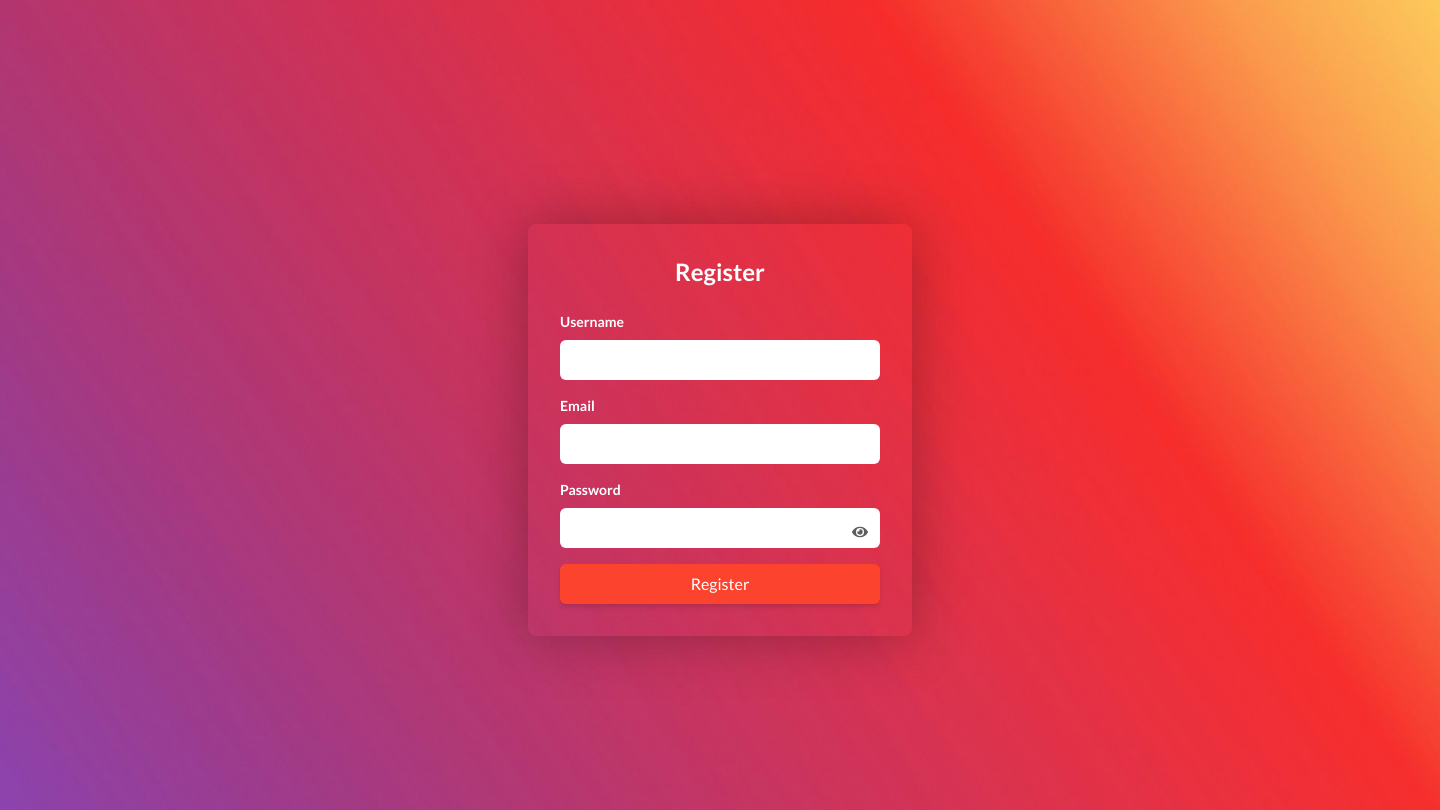
it: Register › rejects a short password
The image size is (1440, 810).
In the field labelled "Username": (720, 360) [560,340,880,380], type "alice"
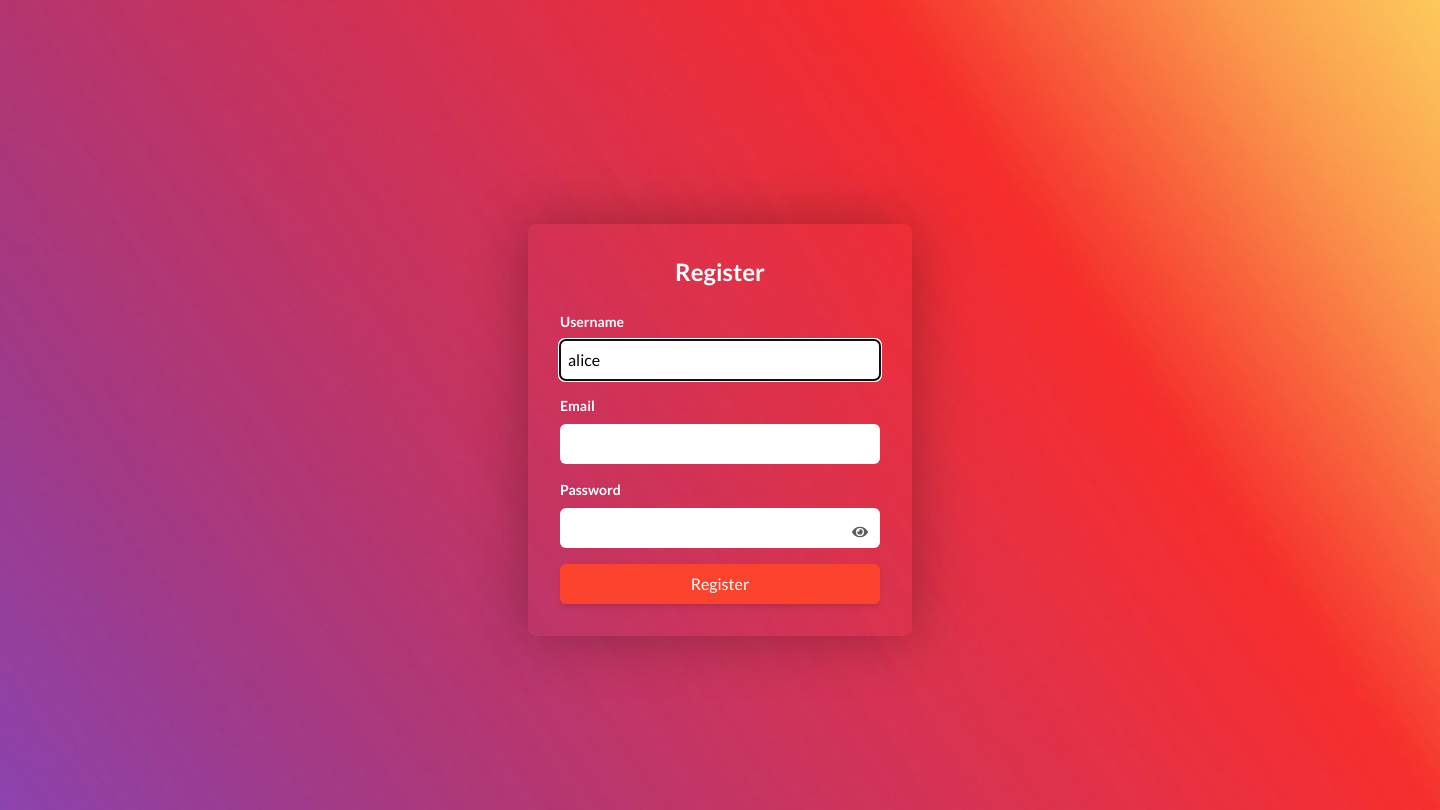
In the field labelled "Email": (720, 444) [560,424,880,464], type "alice@example.com"
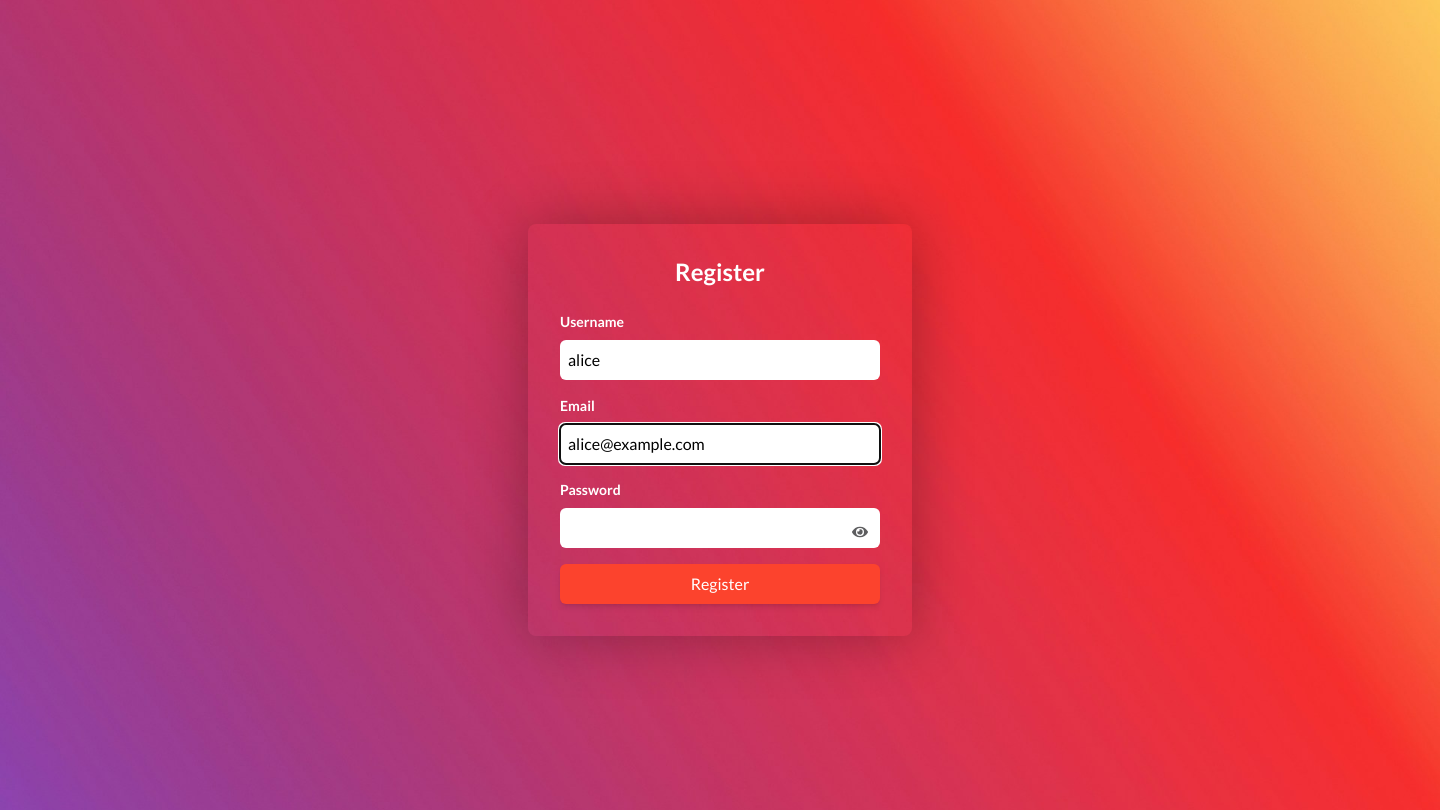
In the password field labelled "Password": (720, 528) [560,508,880,548], type "12345"
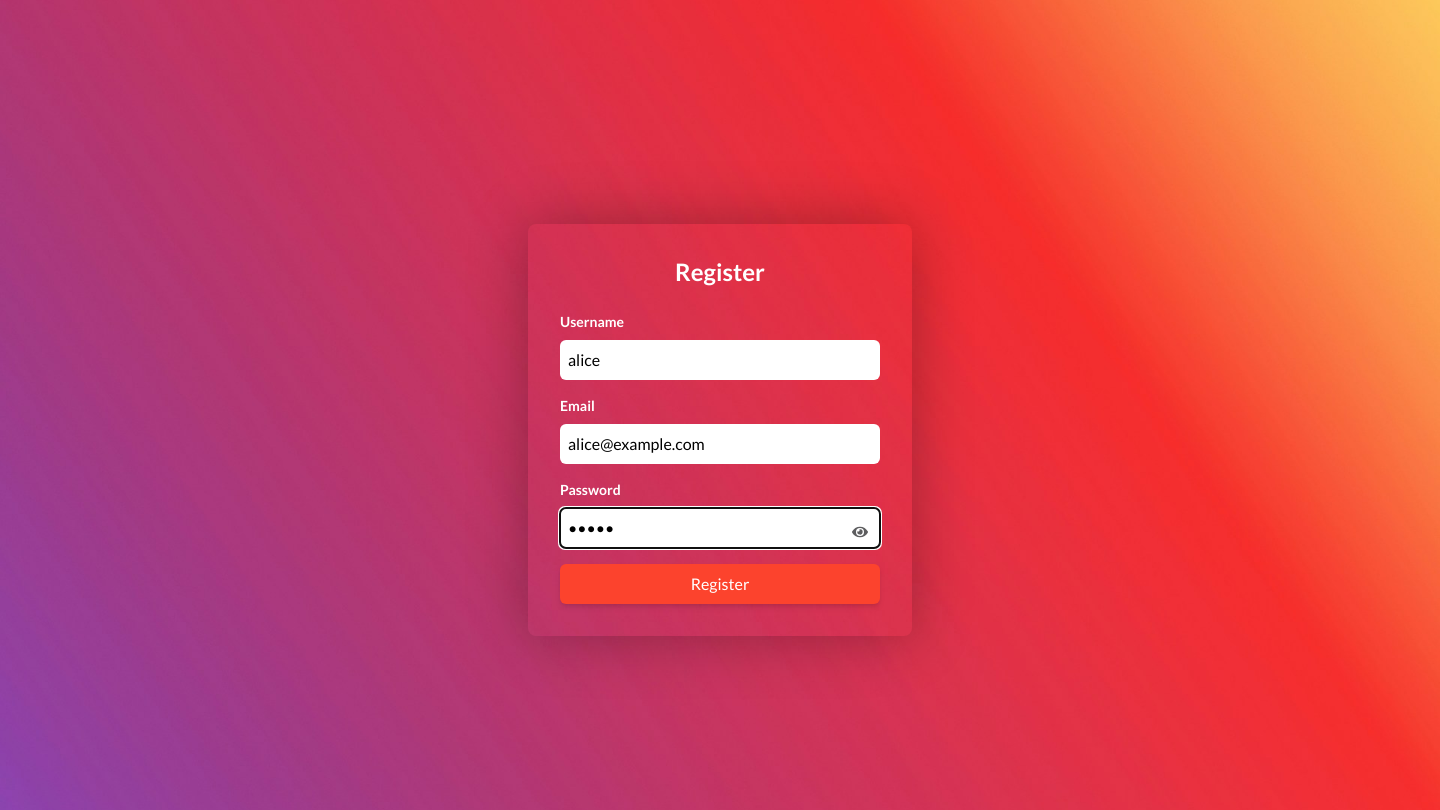
Click the button "Register": (720, 584) [560,564,880,604]
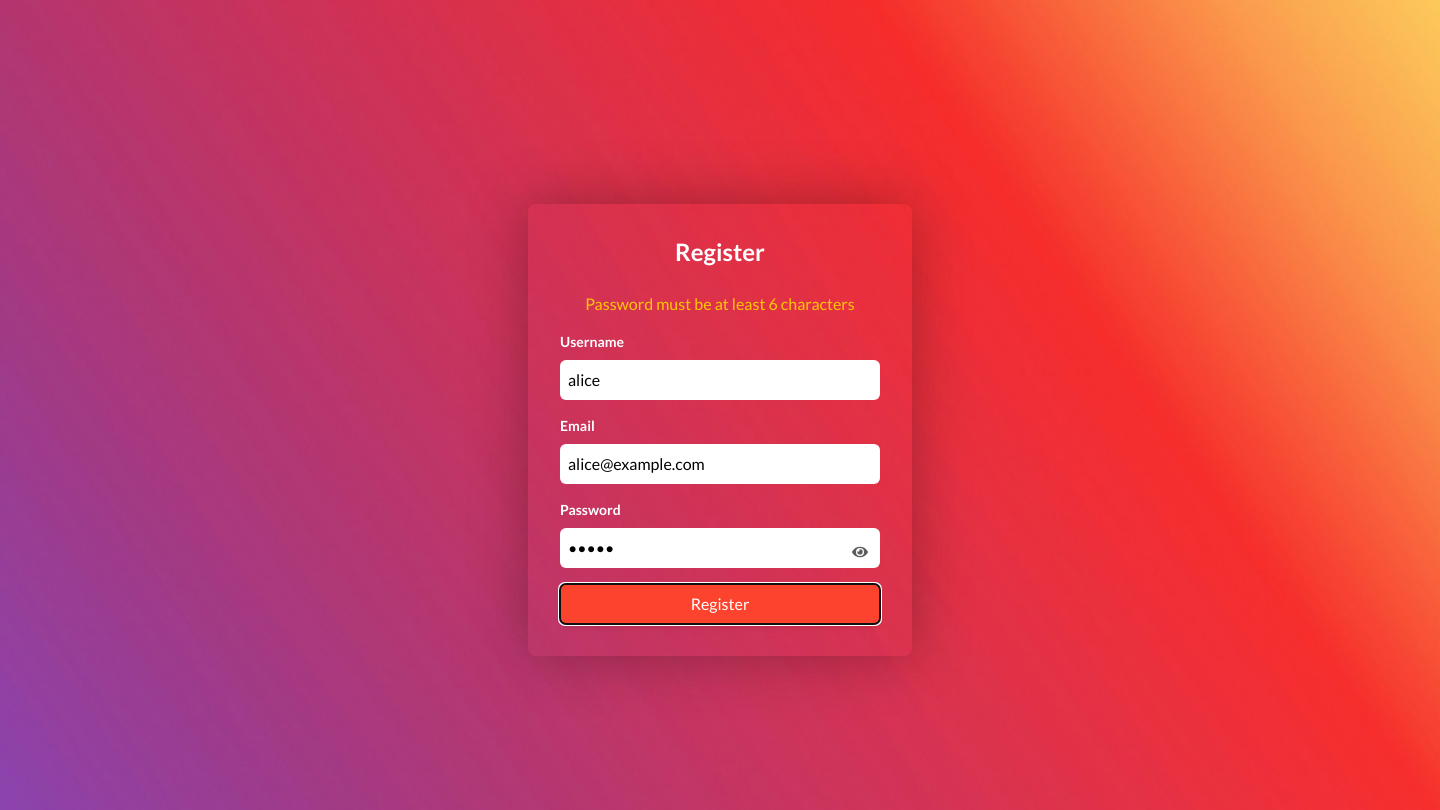
Now the text "Password must be at least 6 characters" is shown, box [585,294,855,313]
